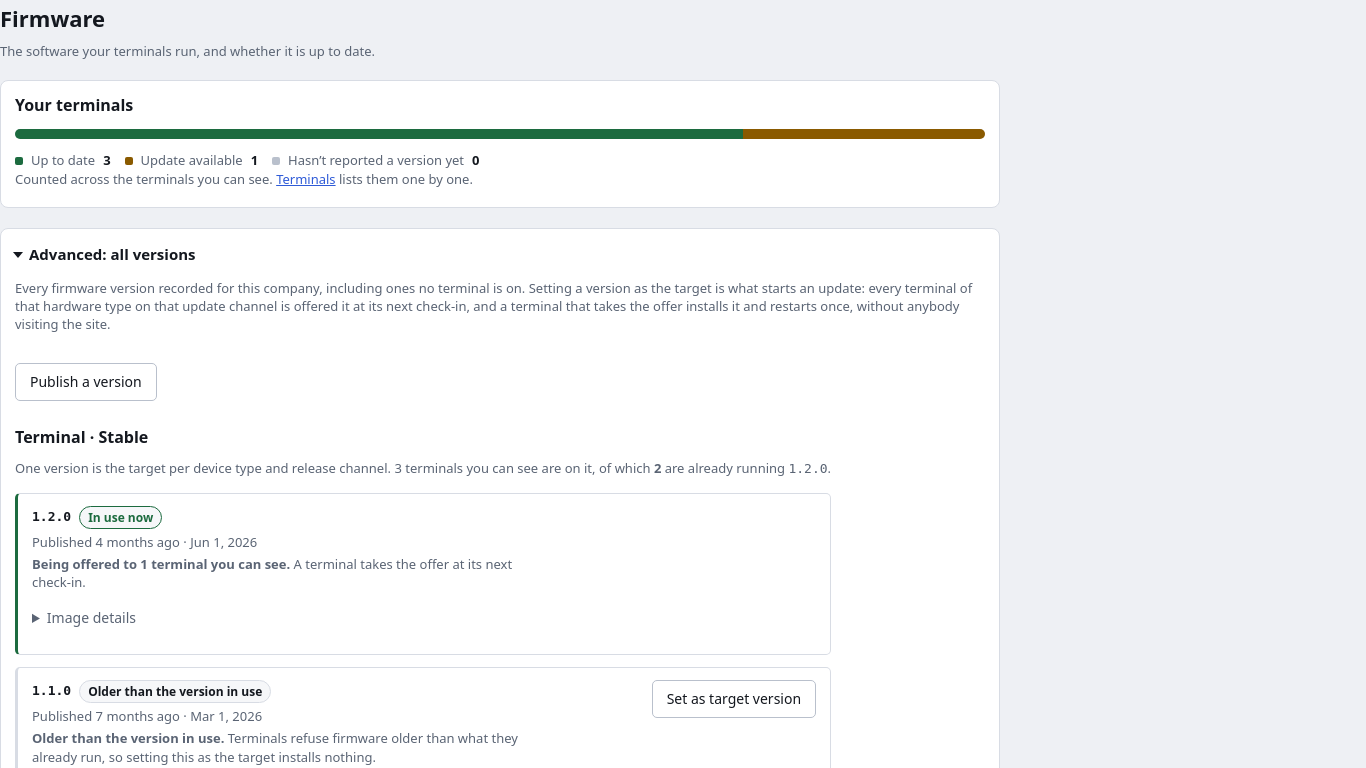
Test: setting an older version as the target › still allows it, rather than inventing a rule the platform does not have
Expected: the heading "Your terminals" is shown, [15,94,133,116]
Step 1. Click the button "Set as target version" → (734, 699), box [652,680,816,718]
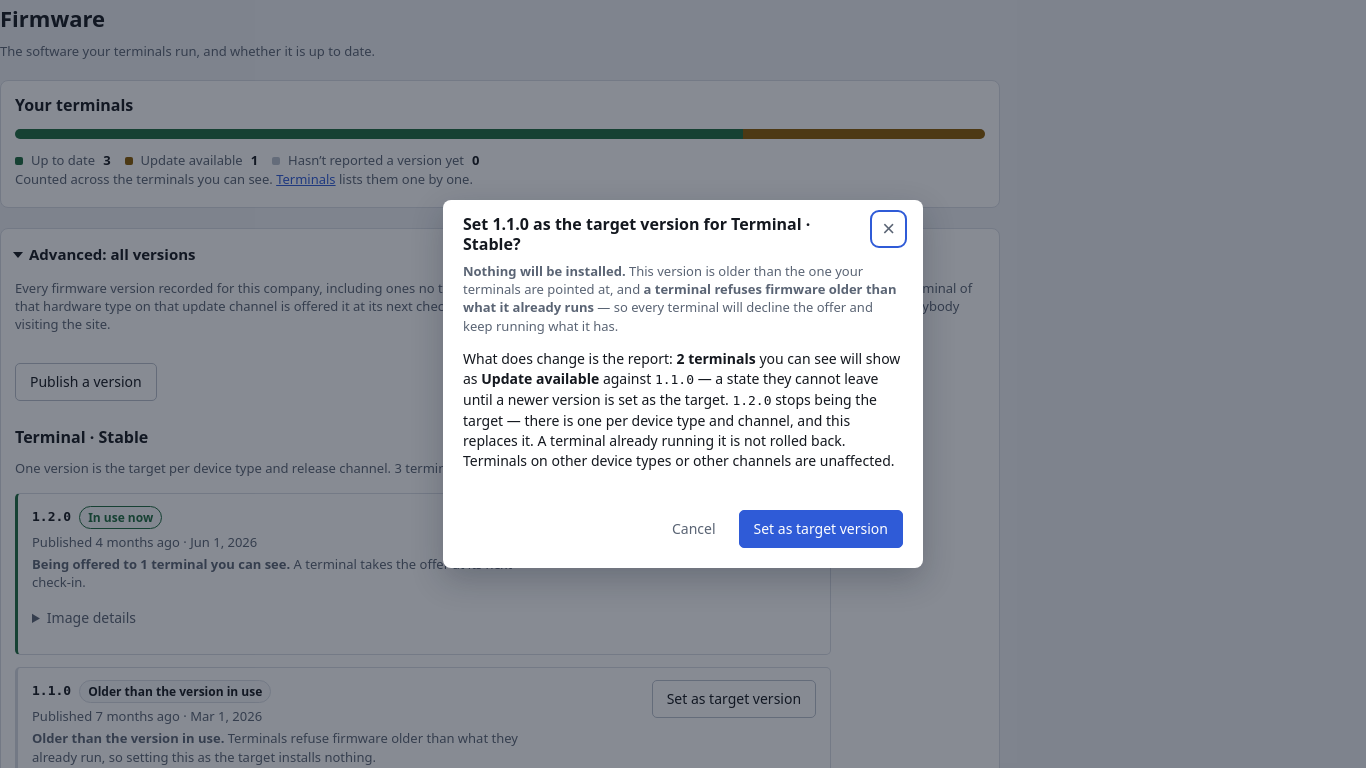
Step 2. Click the button "Set as target version" → (821, 529), box [738,510,903,548]
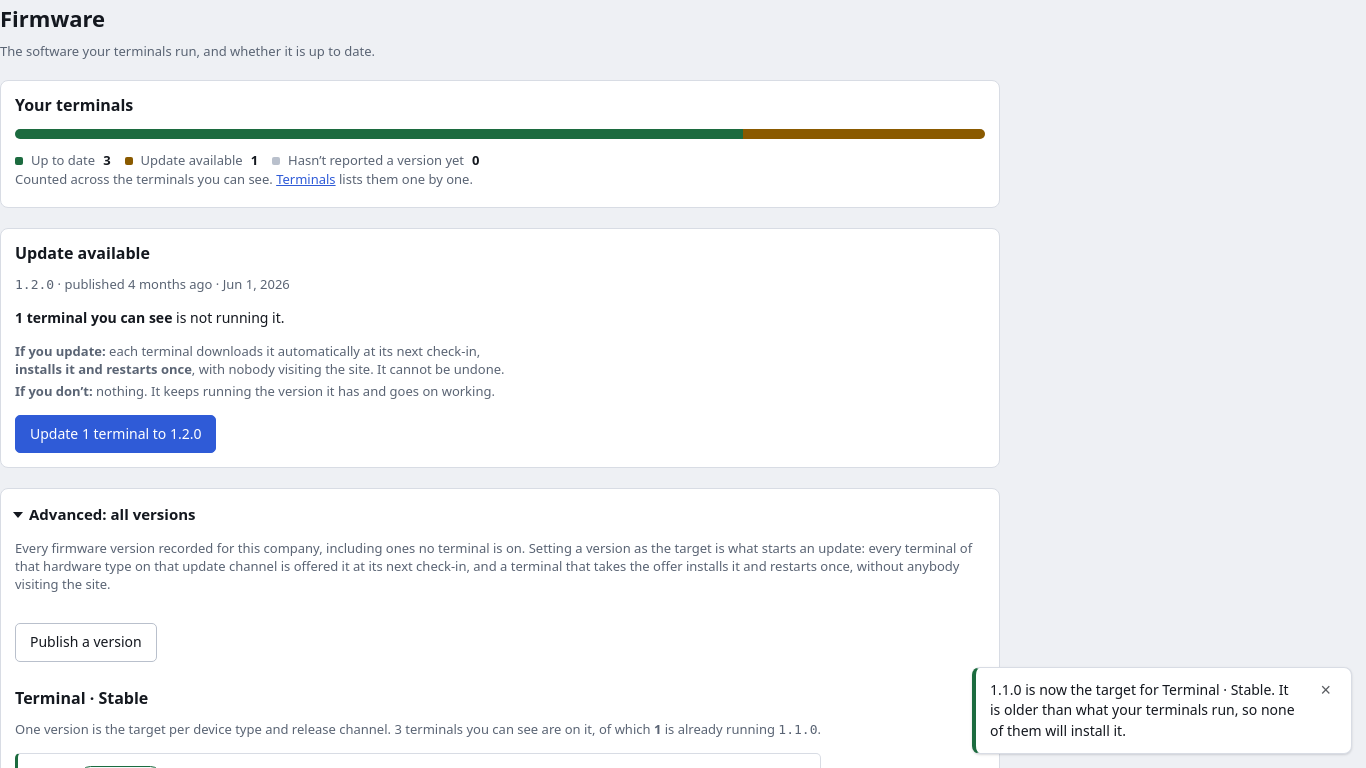
Expected: the dialog is gone
Expected: the text "older than what your terminals run, so none of them will install it" is shown, [990,680,1295,740]
